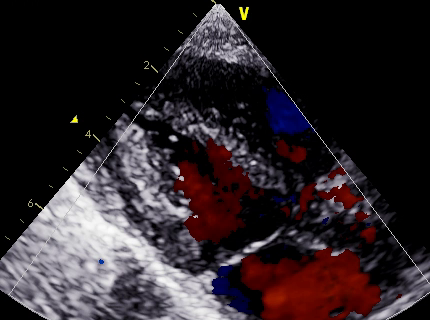AR: (287, 179, 346, 235)
